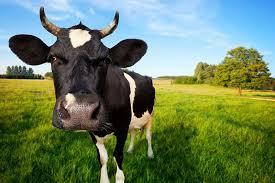cow: (10, 25, 155, 183)
